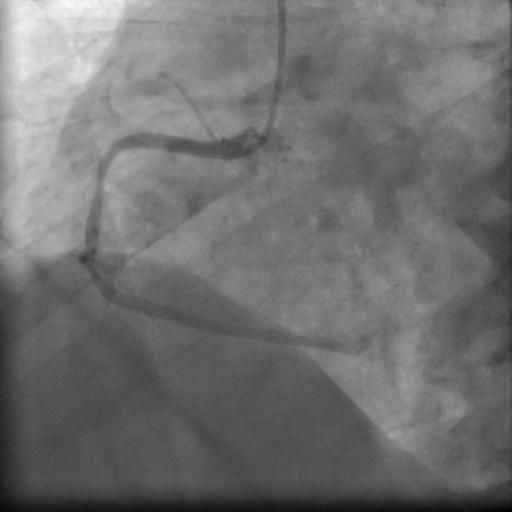Stenosis: (82, 170, 108, 268)
